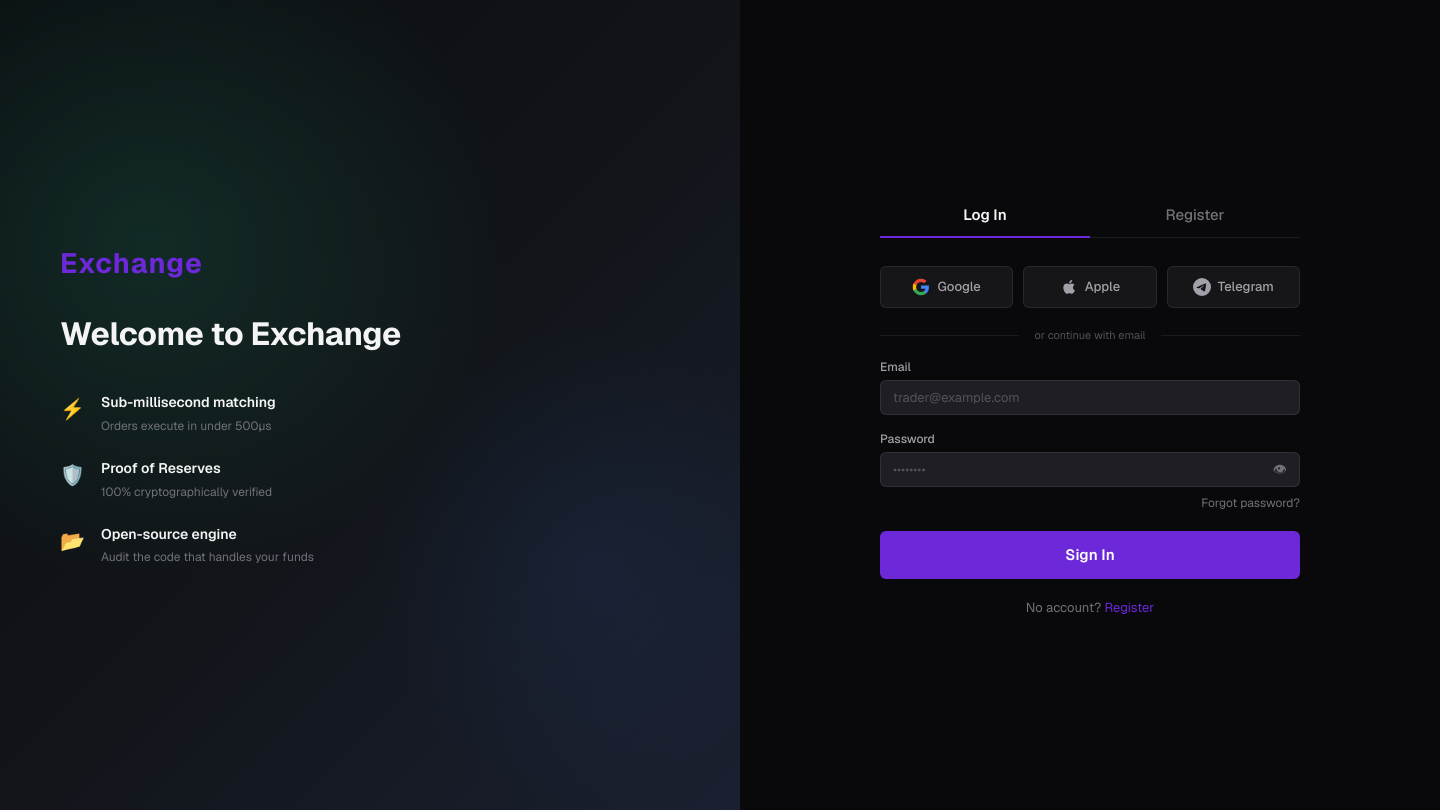
AuthPage › shows validation error when password is empty
This screenshot has width=1440, height=810.
Type "user@example.com" into the field labelled "Email" at (1090,398), box [881,381,1299,414]
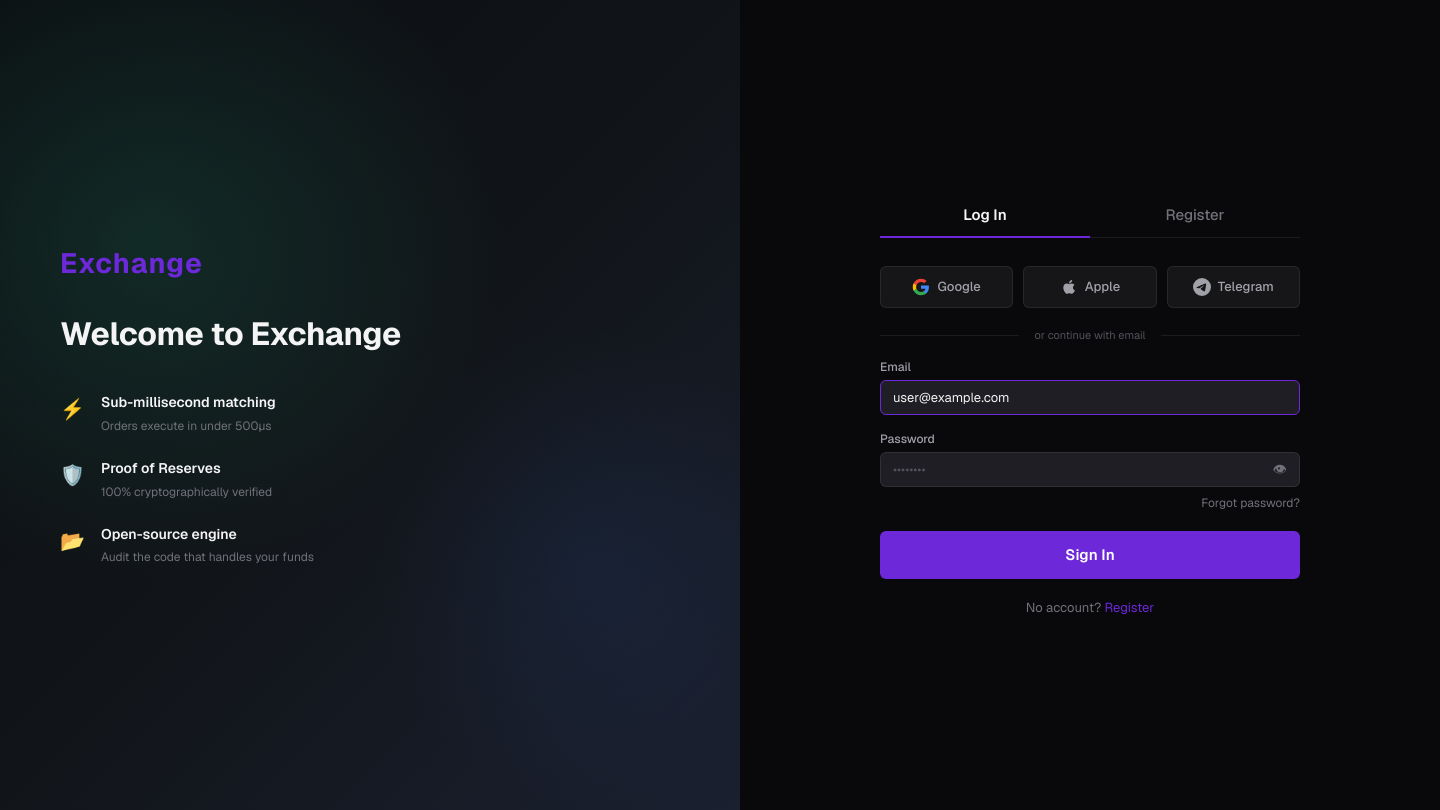
Click the button "Sign In" at (1090,555), box [880,531,1300,579]
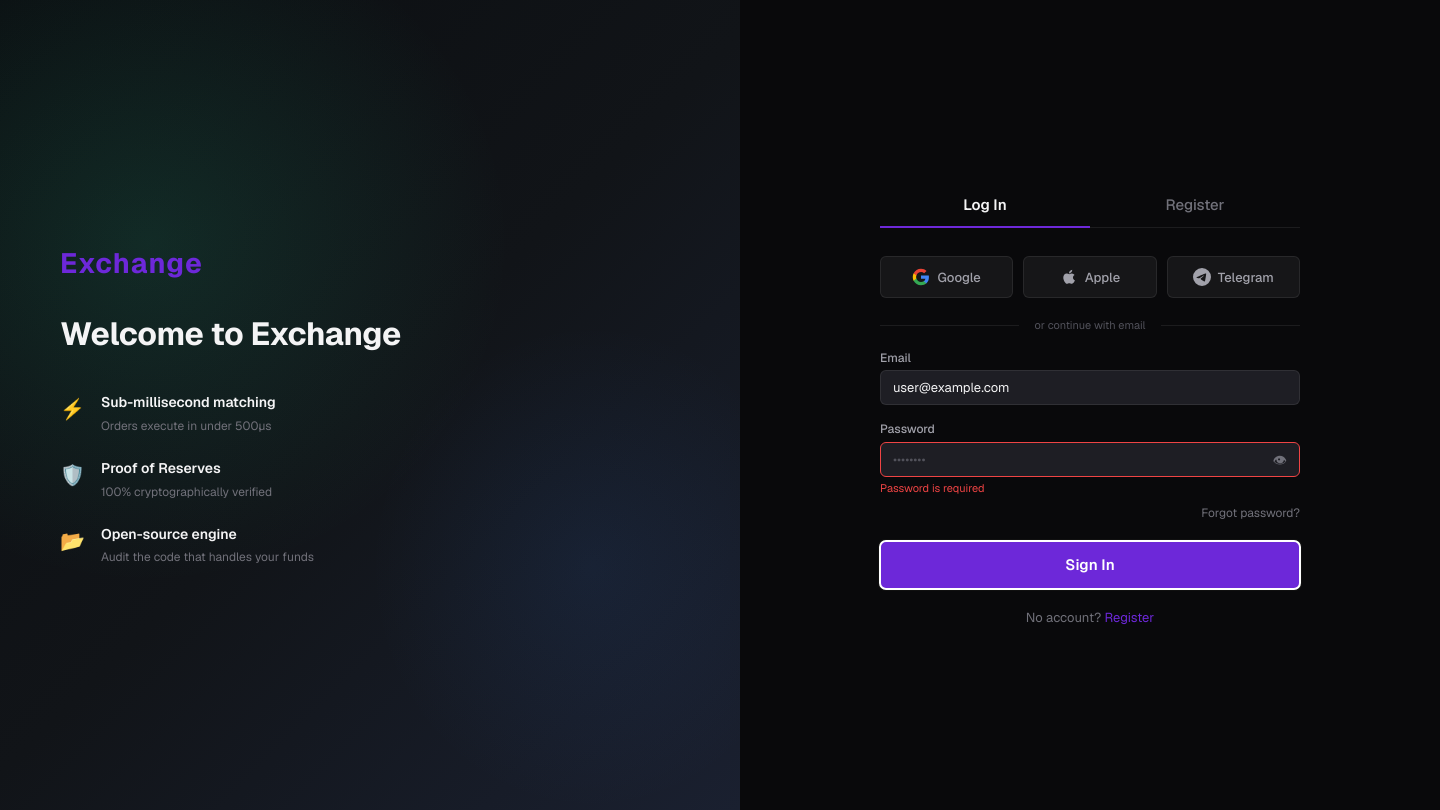
Expected: the text "Password is required" is shown, [880,481,984,495]
